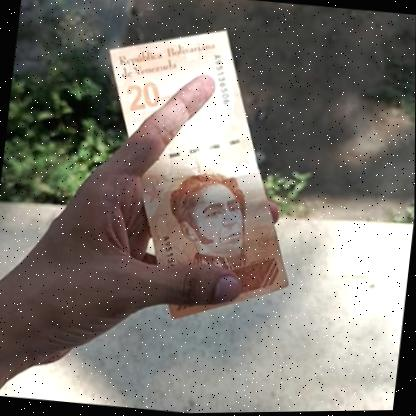twenty-front-vef: (80, 16, 317, 336)
